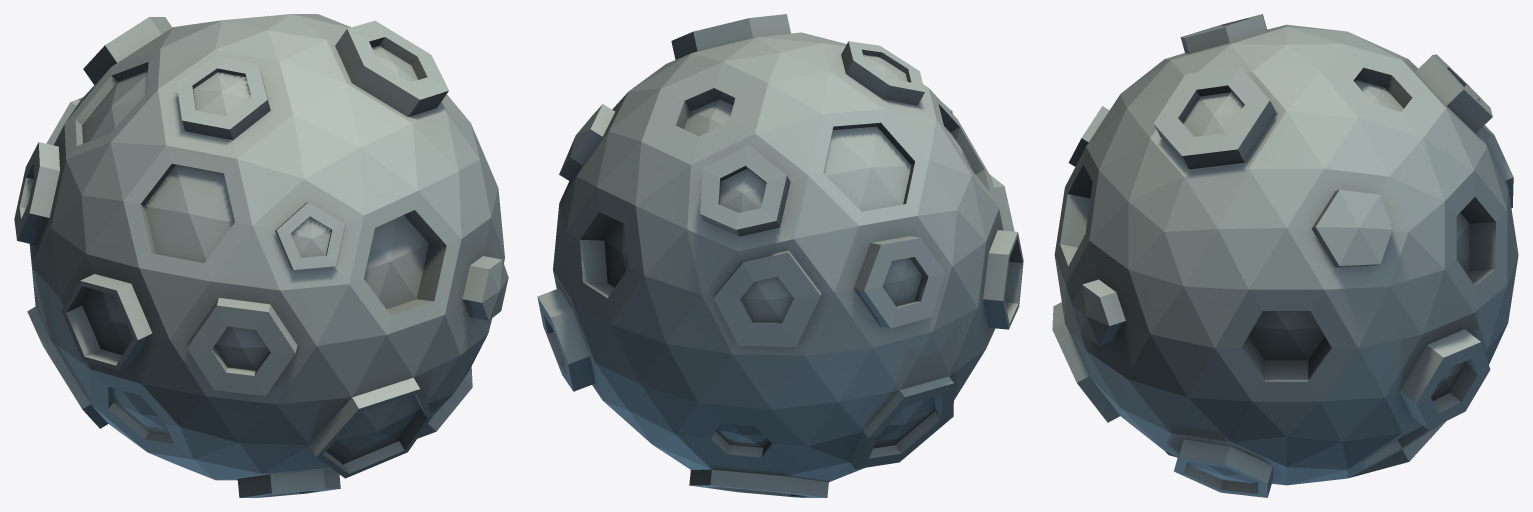
The model's file is Moon.obj.
3 renders of one model, left to right at view 1: azimuth 30°, elevation 25°; view 2: azimuth 150°, elevation 25°; view 3: azimuth 270°, elevation 25°, orthographic. The views are drawn at different scales.
Visible parts, largest first — view 1: moon; view 2: moon; view 3: moon.
Part boxes in pixels (left/top/right/bottom): moon: left=14, top=14, right=508, bottom=497; moon: left=537, top=14, right=1023, bottom=497; moon: left=1052, top=14, right=1518, bottom=497.
Size of the model in its own units: 1.63 by 1.66 by 1.63.
1 material, 1 textured.
